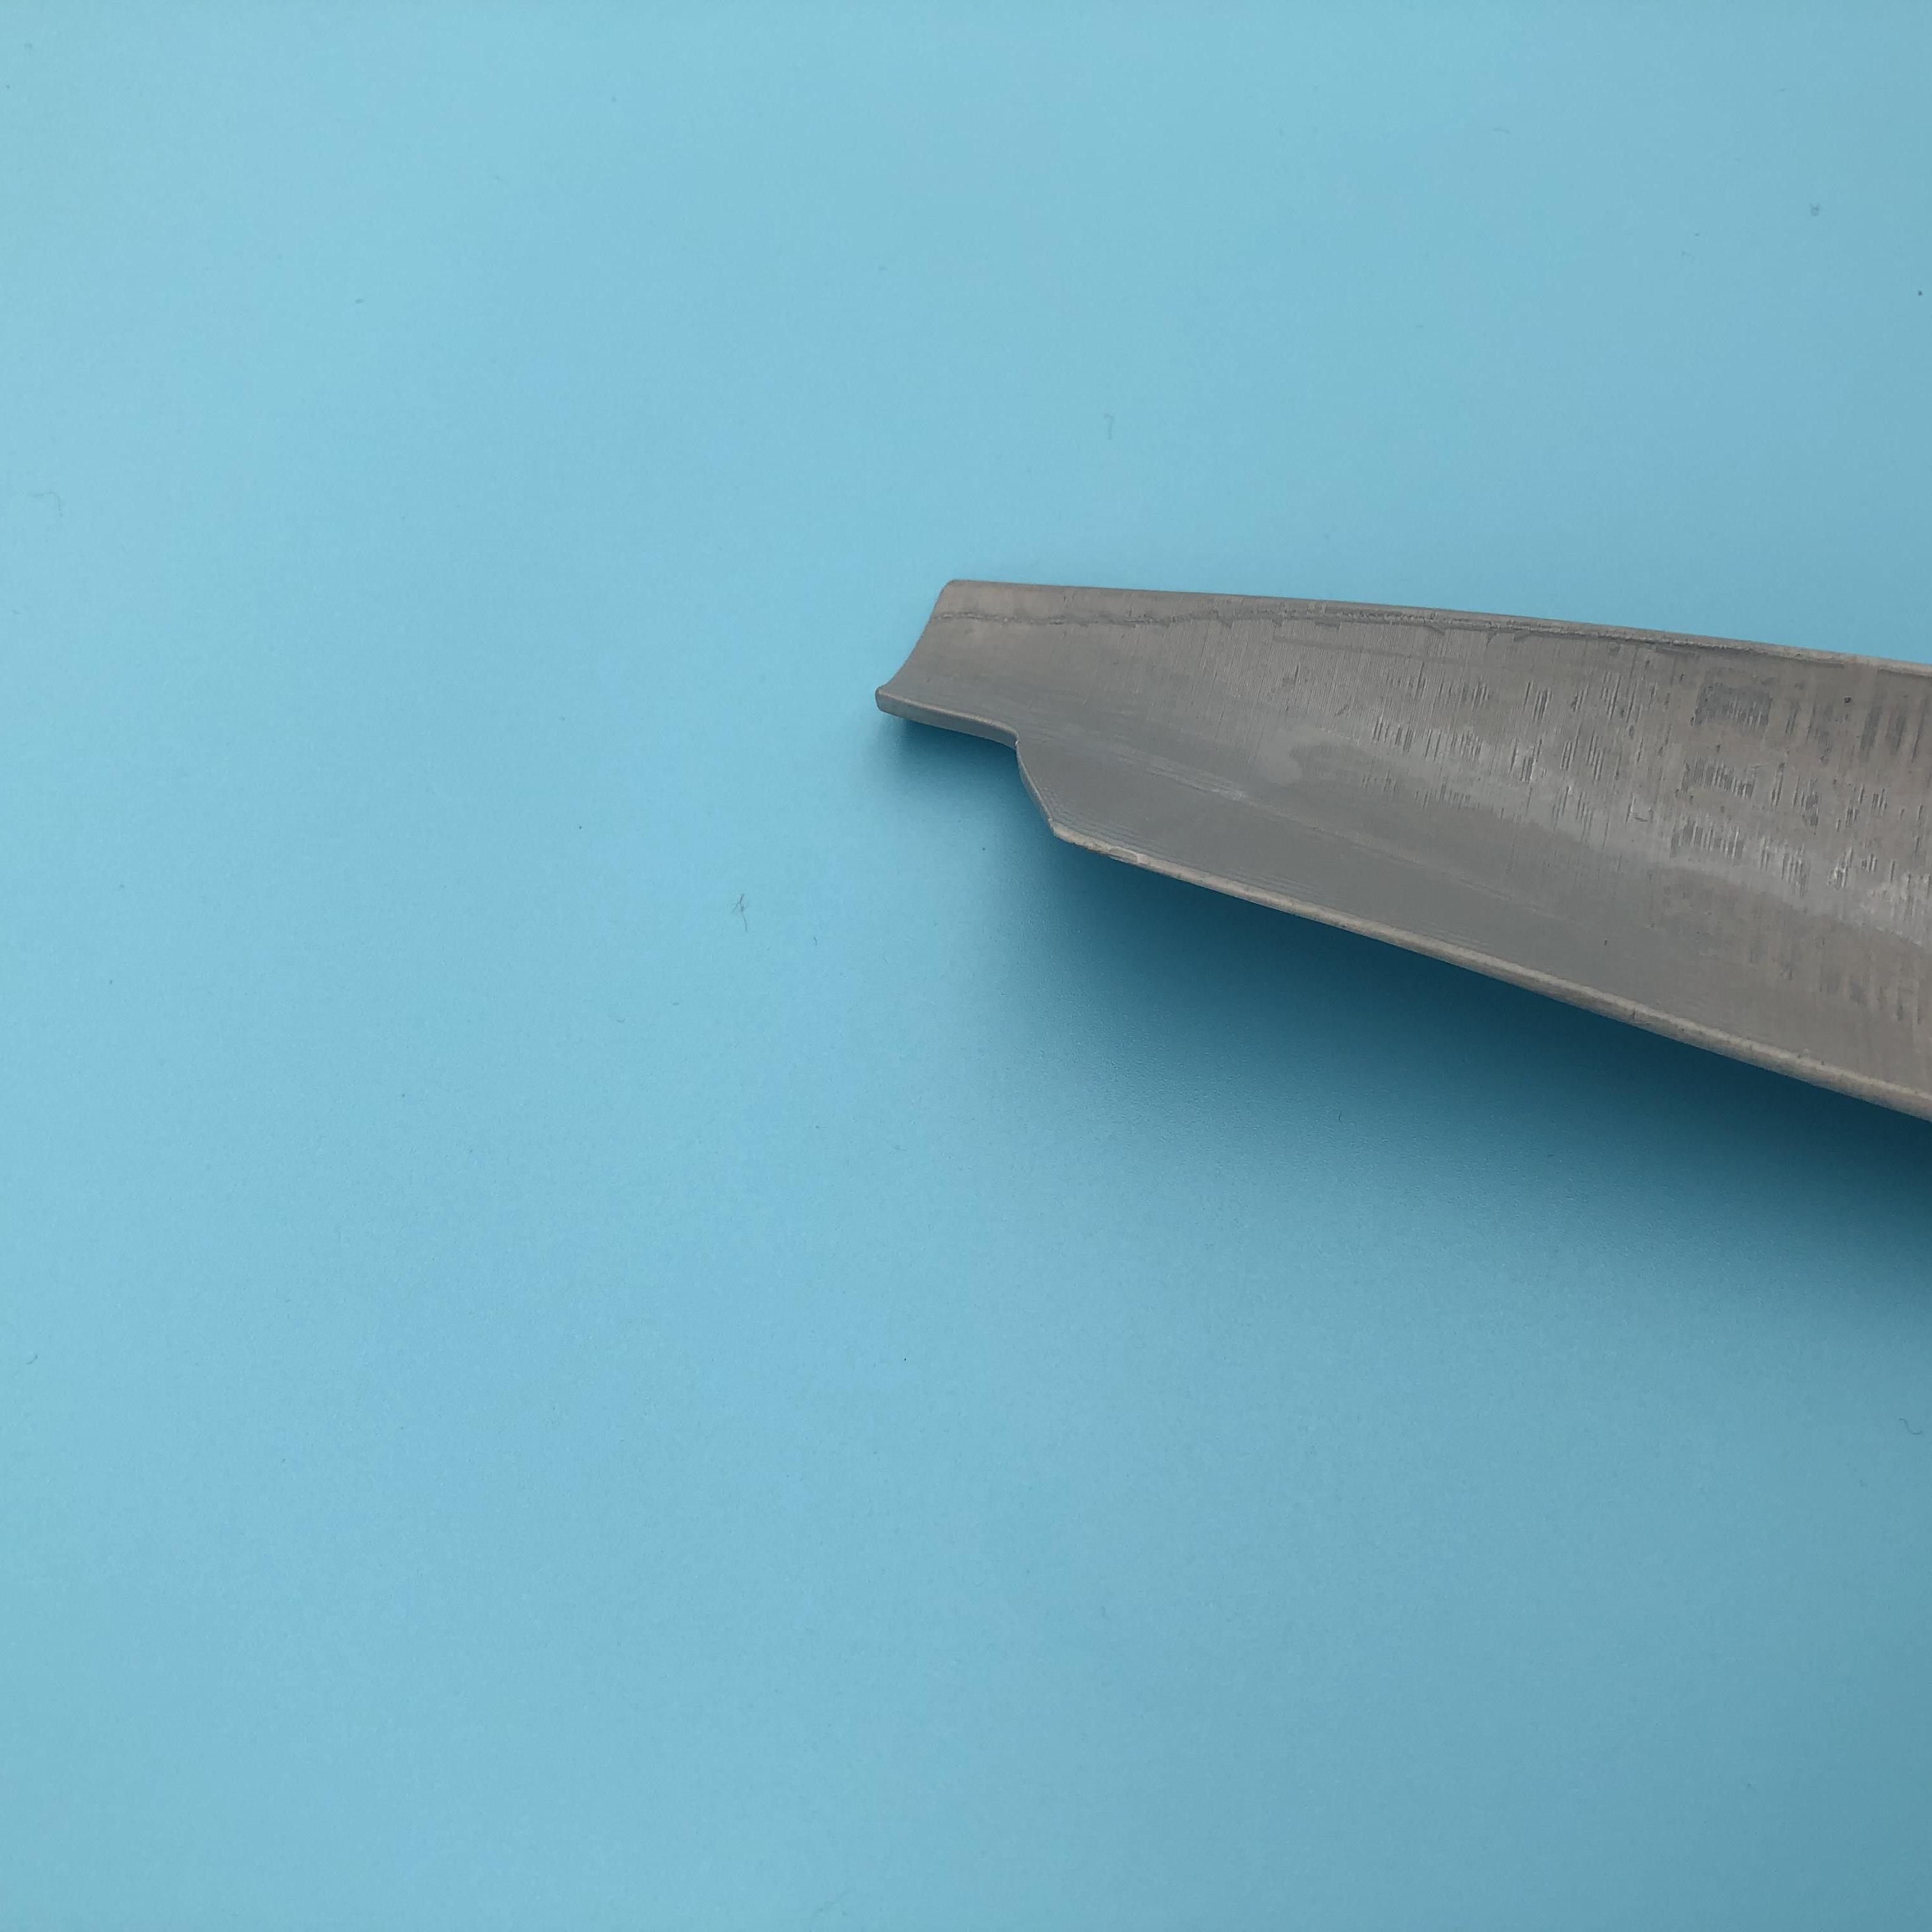fracture: (883, 679, 1074, 842)
